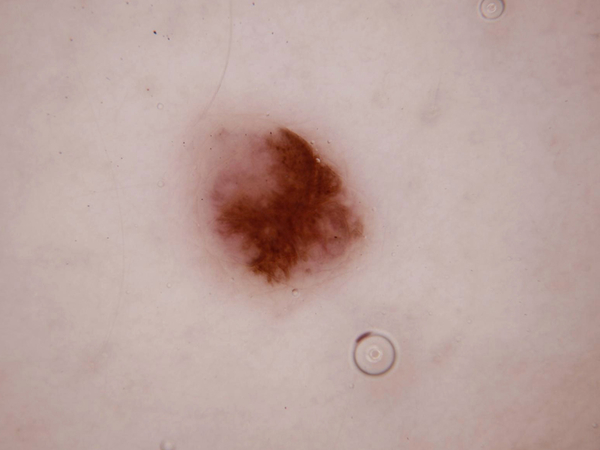Detected Lesion: (189, 122, 367, 294)
